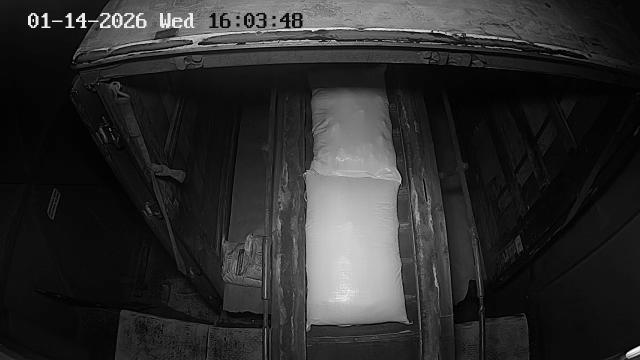bag: (306, 166, 412, 330), (309, 66, 402, 185)
